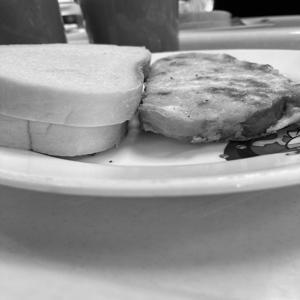bread: (3, 13, 143, 189)
cheese_sandwich: (139, 33, 292, 163)
